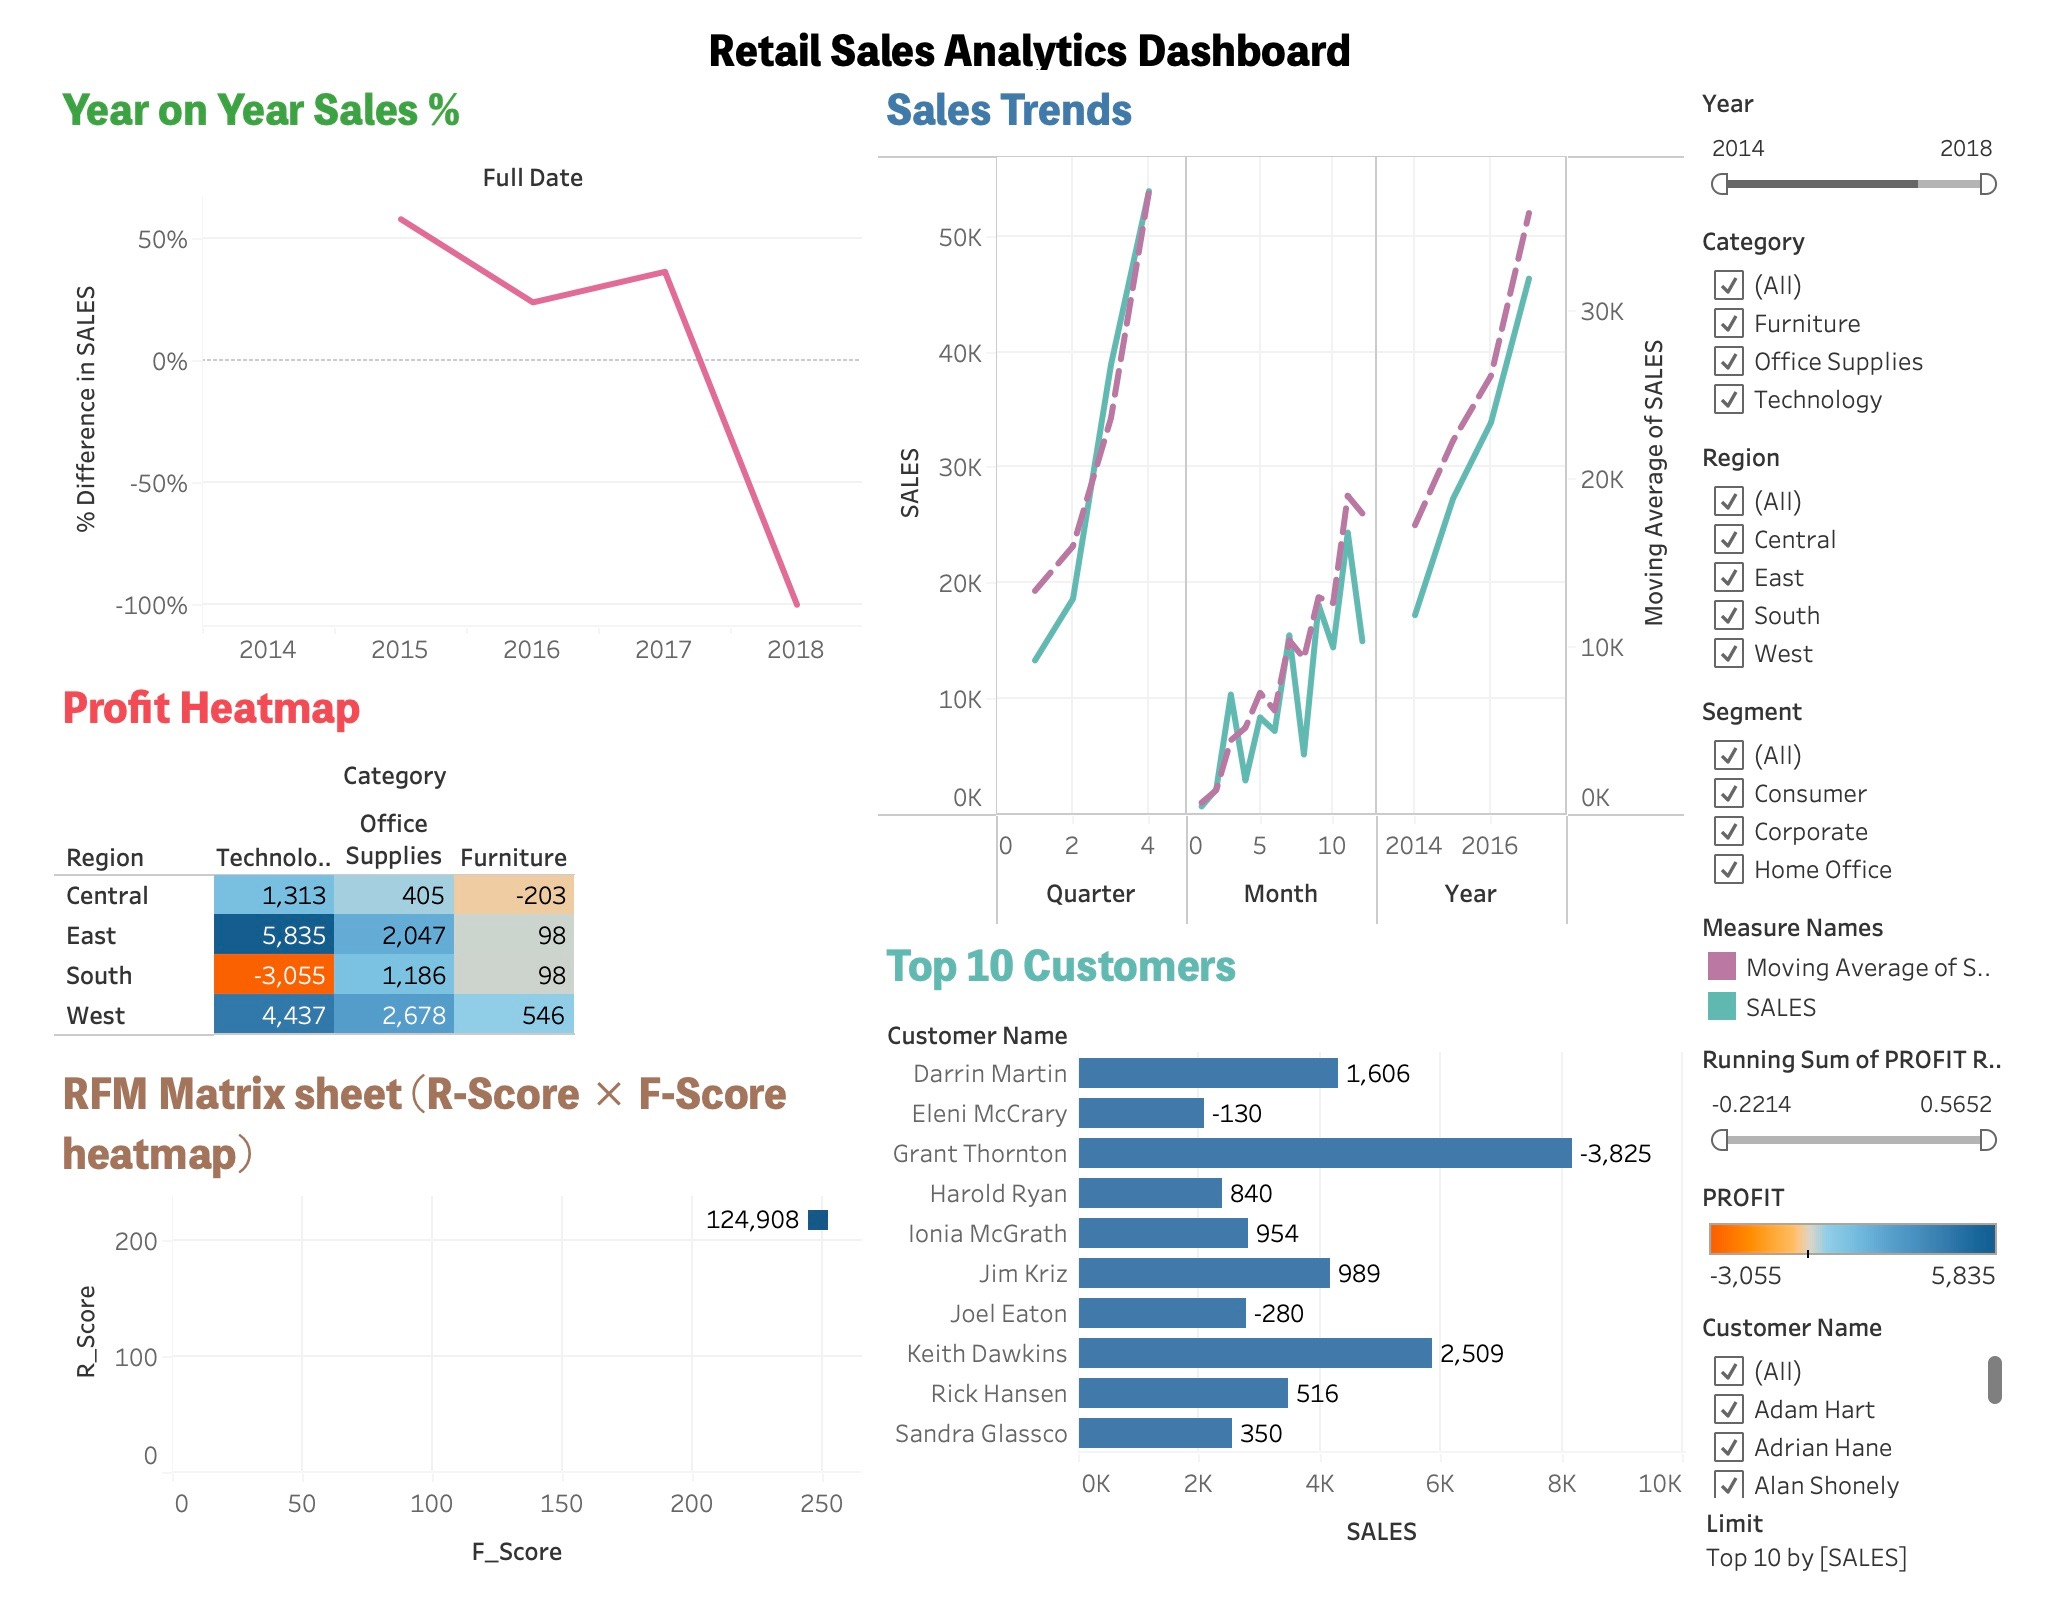

The dashboard page shown, as its layout file describes it:
{"tool":"tableau","page":{"name":"Dashboard 1","canvas":[1000,800],"ordinal":0},"visuals":[{"type":"title","box":[8,8,984,28]},{"type":"worksheet","title":"Sheet 1","mark":"Automatic","rows":["Calculation_5092023069172649985"],"cols":["full_date"],"box":[8,36,412,298.9]},{"type":"worksheet","title":"Sheet 4","mark":"Line","rows":["Calculation_5092023069172649985","Calculation_5092023069172649985"],"cols":["quarter","month","year"],"box":[420,36,412,428.1]},{"type":"filter","title":"Sheet 4","param":"[federated.0nccag806ywf2p1a4ku90133vkiu].[none:year:qk]","box":[832,36,160,69]},{"type":"filter","title":"Sheet 4","param":"[federated.0nccag806ywf2p1a4ku90133vkiu].[none:category:nk]","box":[832,105,160,108]},{"type":"filter","title":"Sheet 4","param":"[federated.0nccag806ywf2p1a4ku90133vkiu].[none:region:nk]","box":[832,213,160,127]},{"type":"worksheet","title":"Sheet 5","mark":"Square","rows":["region"],"cols":["category"],"box":[8,334.9,412,190.9]},{"type":"filter","title":"Sheet 4","param":"[federated.0nccag806ywf2p1a4ku90133vkiu].[none:segment:nk]","box":[832,340,160,108]},{"type":"legend","title":"Sheet 4","param":"[federated.0nccag806ywf2p1a4ku90133vkiu].[:Measure Names]","box":[832,448,160,66]},{"type":"worksheet","title":"Sheet 6","mark":"Automatic","rows":["customer_name"],"cols":["Calculation_5092023069172649985"],"box":[420,464.1,412,327.9]},{"type":"filter","title":"Sheet 5","param":"[federated.0nccag806ywf2p1a4ku90133vkiu].[cum:usr:Calculation_509202306917340774","box":[832,514,160,69]},{"type":"worksheet","title":"Sheet 7","mark":"Square","rows":["Calculation_5092023069202501665"],"cols":["Calculation_5092023069202608162"],"box":[8,525.8,412,266.2]},{"type":"legend","title":"Sheet 5","param":"[federated.0nccag806ywf2p1a4ku90133vkiu].[usr:Calculation_5092023069173284866:qk","box":[832,583,160,65]},{"type":"filter","title":"Sheet 6","param":"[federated.0nccag806ywf2p1a4ku90133vkiu].[none:customer_name:nk]","box":[832,648,160,144]}]}

Visuals, with their boxes in screenshot pixels (x1, y1, x2, y2), scaled from the page's 1000x800 canvas onto the 2062x1606 screenshot:
title: x1=16, y1=16, x2=2046, y2=72
"Sheet 1" worksheet: x1=16, y1=72, x2=866, y2=672
"Sheet 4" worksheet (Line marks): x1=866, y1=72, x2=1716, y2=932
"Sheet 4" filter: x1=1716, y1=72, x2=2046, y2=211
"Sheet 4" filter: x1=1716, y1=211, x2=2046, y2=428
"Sheet 4" filter: x1=1716, y1=428, x2=2046, y2=683
"Sheet 5" worksheet (Square marks): x1=16, y1=672, x2=866, y2=1056
"Sheet 4" filter: x1=1716, y1=683, x2=2046, y2=899
"Sheet 4" legend: x1=1716, y1=899, x2=2046, y2=1032
"Sheet 6" worksheet: x1=866, y1=932, x2=1716, y2=1590
"Sheet 5" filter: x1=1716, y1=1032, x2=2046, y2=1170
"Sheet 7" worksheet (Square marks): x1=16, y1=1056, x2=866, y2=1590
"Sheet 5" legend: x1=1716, y1=1170, x2=2046, y2=1301
"Sheet 6" filter: x1=1716, y1=1301, x2=2046, y2=1590
